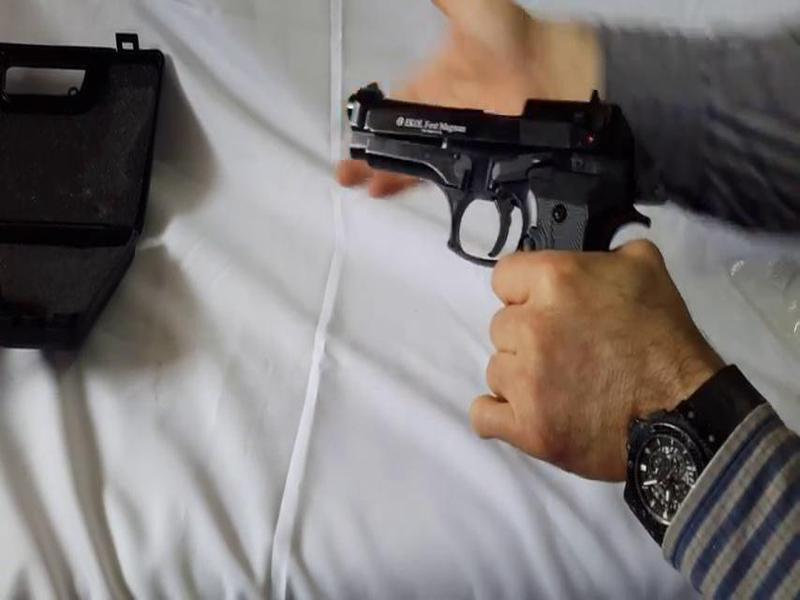Pistola: (339, 74, 673, 284)
